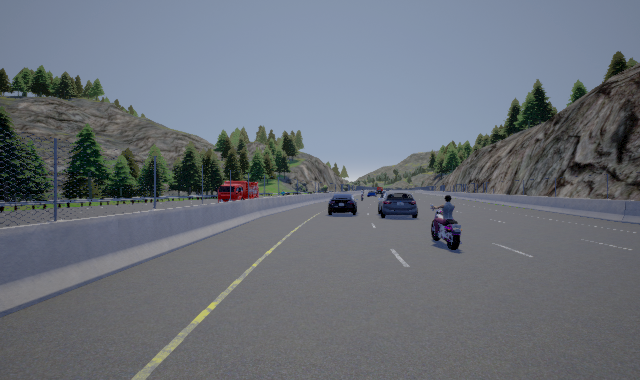motobike: (431, 193, 467, 250)
vehicle: (367, 187, 418, 218), (217, 178, 261, 201), (328, 194, 357, 215)
